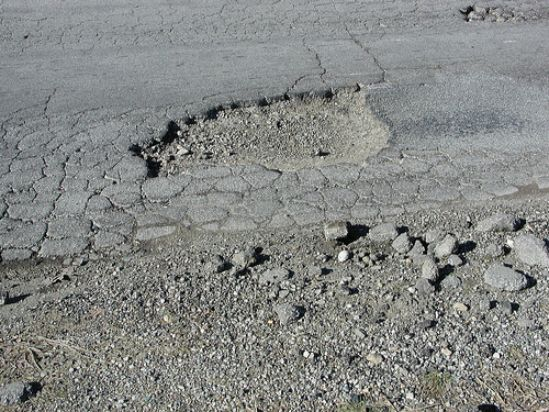pothole: (127, 81, 411, 181)
